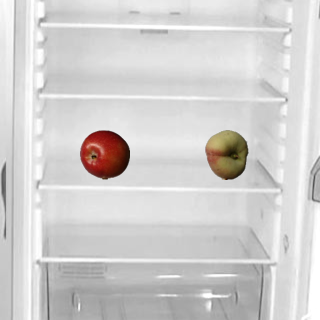Apple Braeburn: (79, 129, 129, 179)
Peach Flat: (201, 129, 251, 179)
